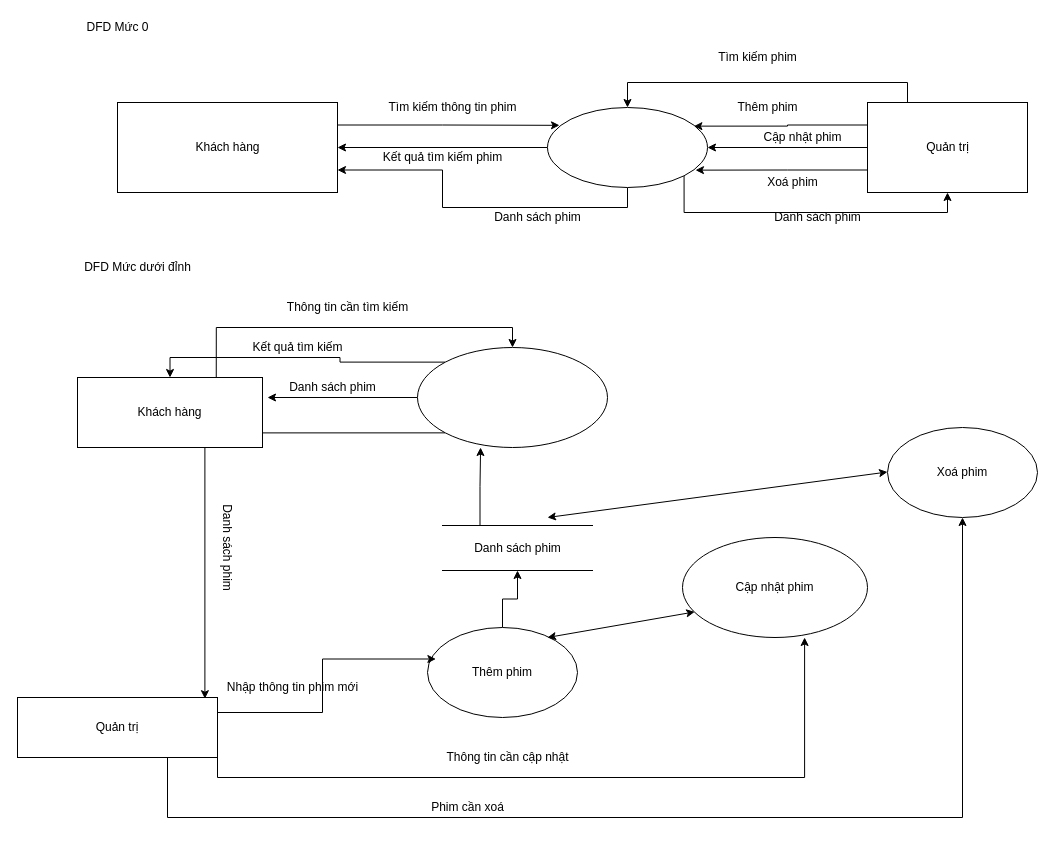
Image size: 1055x843. Some labels were removed from this diagram. Each missing label, with the centre of its shape:
"Quản lí phim" goes at pixel 627 147.
"Tìm Kiếm" goes at pixel 512 397.
